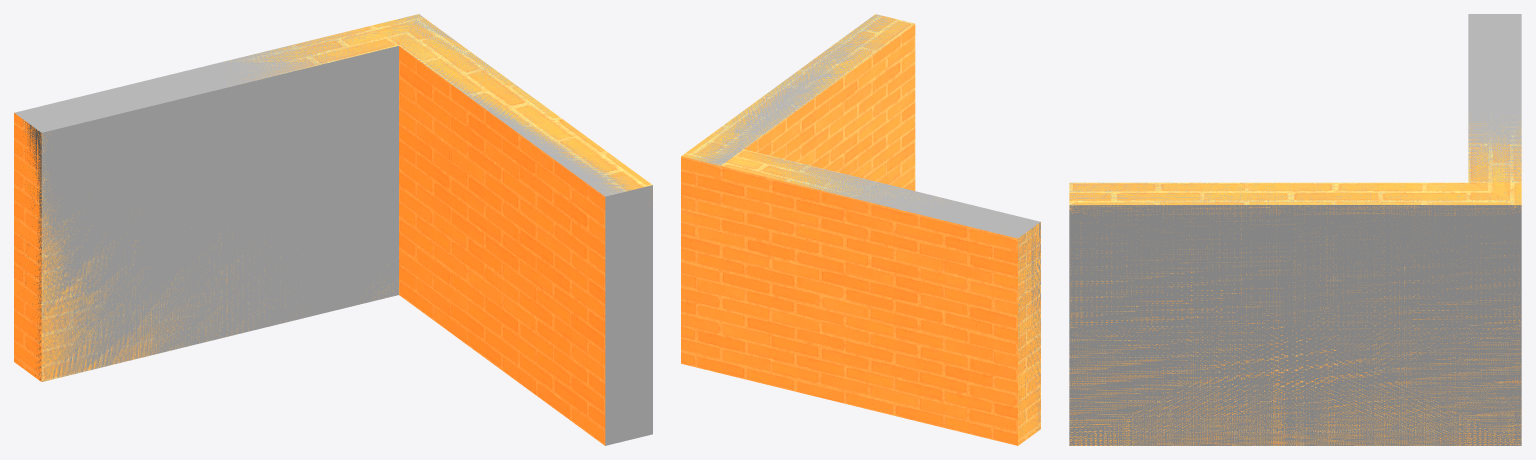
The model's file is SM_WallRoof_CornerOut_2x2_01a.fbx.
3 renders of one model, left to right at view 1: azimuth 30°, elevation 25°; view 2: azimuth 150°, elevation 25°; view 3: azimuth 270°, elevation 25°, orthographic. The views are drawn at different scales.
Parts seen in each view (by area): view 1: SM_WallRoof_CornerOut_2x2_01a_ConvexHulls, SM_WallRoof_CornerOut_2x2_01a; view 2: SM_WallRoof_CornerOut_2x2_01a, SM_WallRoof_CornerOut_2x2_01a_ConvexHulls; view 3: SM_WallRoof_CornerOut_2x2_01a_ConvexHulls, SM_WallRoof_CornerOut_2x2_01a.
Boxes of the visible parts, x1,y1,x2,y2 form: SM_WallRoof_CornerOut_2x2_01a_ConvexHulls: [14, 14, 652, 445]; SM_WallRoof_CornerOut_2x2_01a: [14, 14, 652, 445]; SM_WallRoof_CornerOut_2x2_01a: [681, 14, 1040, 445]; SM_WallRoof_CornerOut_2x2_01a_ConvexHulls: [688, 14, 1040, 433]; SM_WallRoof_CornerOut_2x2_01a_ConvexHulls: [1069, 14, 1521, 445]; SM_WallRoof_CornerOut_2x2_01a: [1069, 116, 1521, 445].
Bounding box in the file's own units: 170 × 170 × 100.
